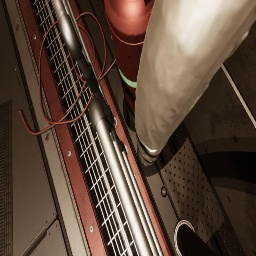NitrogenTank ,: (104, 0, 155, 125)
